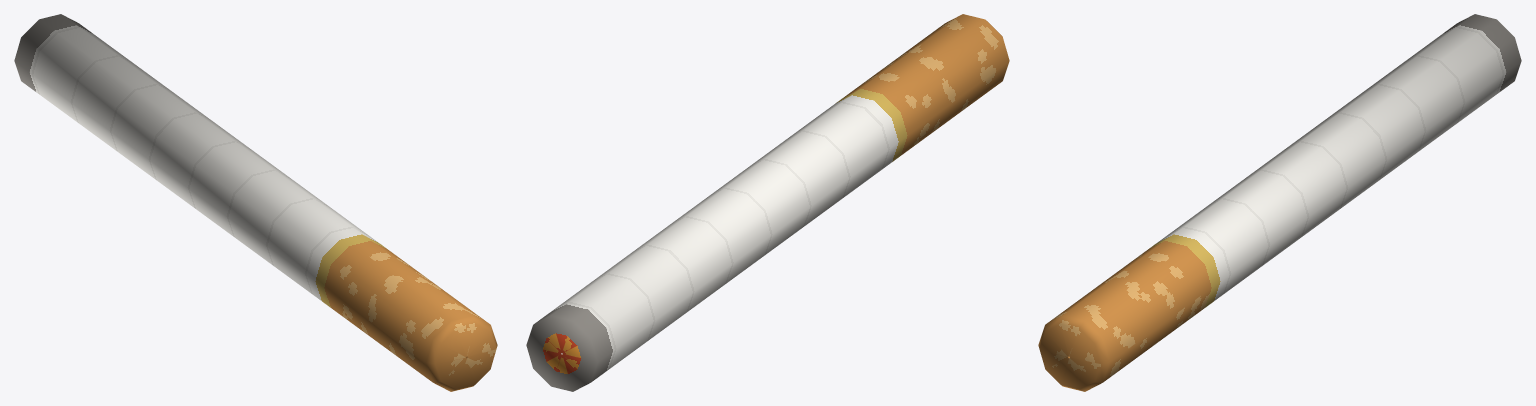
The model's file is cig_own.glb.
3 renders of one model, left to right at view 1: azimuth 30°, elevation 25°; view 2: azimuth 150°, elevation 25°; view 3: azimuth 330°, elevation 25°, orthographic.
Visible parts, largest first — view 1: lathe; view 2: lathe; view 3: lathe.
Part boxes in pixels (left/top/right/bottom): lathe: left=14, top=14, right=497, bottom=391; lathe: left=526, top=14, right=1009, bottom=391; lathe: left=1038, top=14, right=1521, bottom=391.
Size of the model in its own units: 0.0084 by 0.00799 by 0.085.
Materials: 1 (1 with a texture image).
